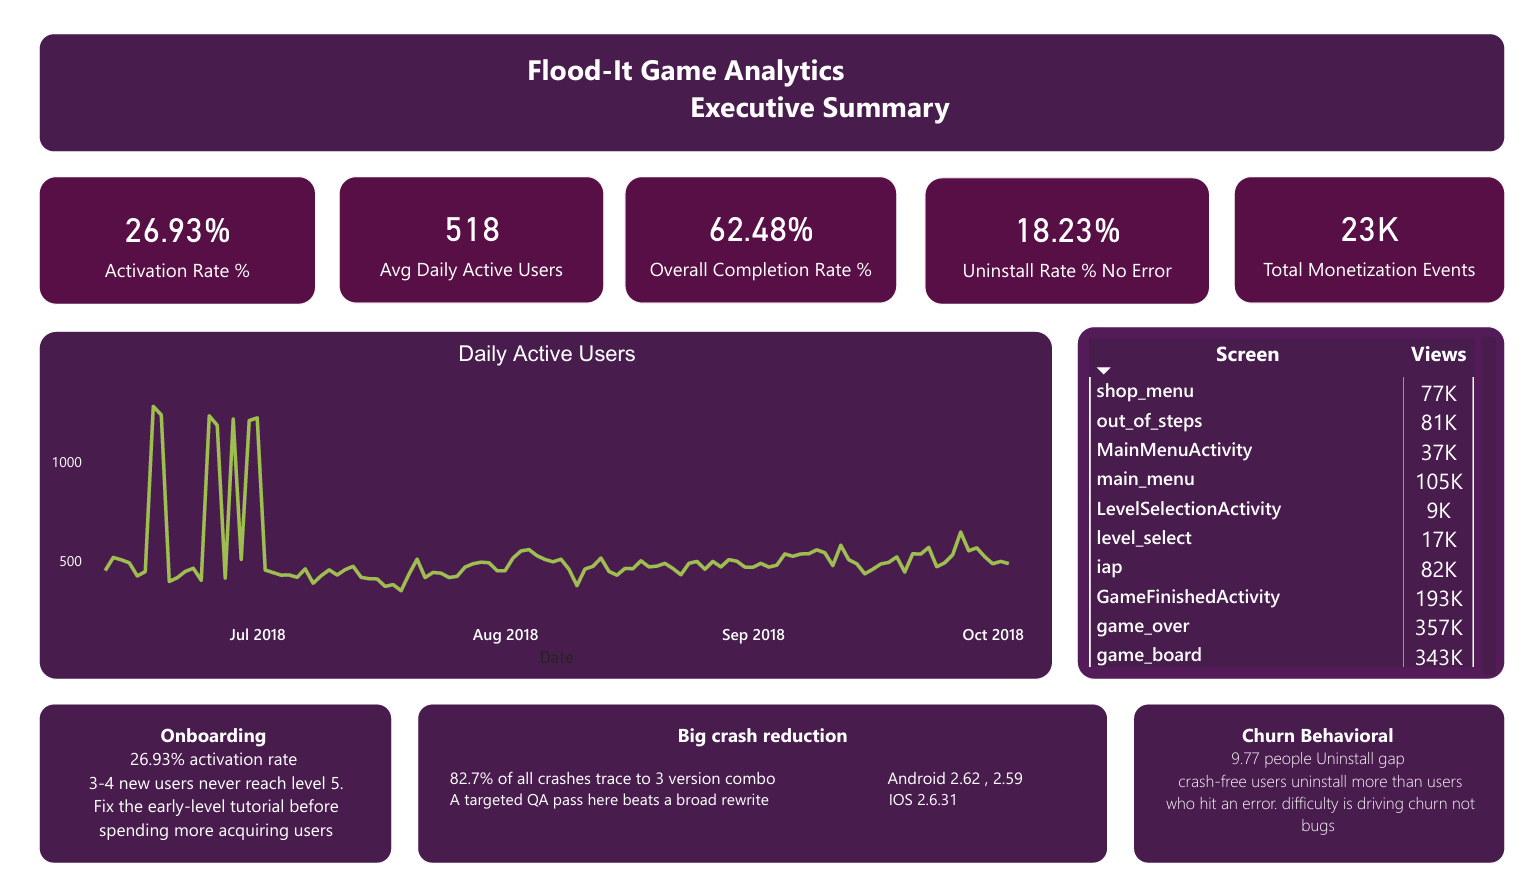

The page's visual inventory and layout, read from the dashboard file:
{"tool":"powerbi","page":{"name":"Executive Summary","canvas":[1280,720],"ordinal":0},"visuals":[{"type":"card","fields":{"Values":["_Measures.Activation Rate %"]},"box":[14,132.6,237.2,110.5],"z":0},{"type":"card","fields":{"Values":["_Measures.Avg Daily Active Users"]},"box":[269.8,132.6,226.7,109.3],"z":1000},{"type":"card","fields":{"Values":["_Measures.Overall Completion Rate %"]},"box":[514,132.6,232.6,109.3],"z":2000},{"type":"card","fields":{"Values":["_Measures.Uninstall Rate % No Error"]},"box":[769.8,133.7,244.2,109.3],"z":3000},{"type":"card","fields":{"Values":["_Measures.Total Monetization Events"]},"box":[1033.7,132.6,232.6,109.3],"z":4000},{"type":"lineChart","title":"Daily Active Users ","fields":{"Category":["DAU.Date"],"Y":["Sum(DAU.DailyActiveUsers)"]},"box":[14,265.1,866.3,297.7],"z":5000},{"type":"shape","box":[13.8,11.2,1252.5,101.2],"z":6000},{"type":"textbox","box":[426.3,20.4,407,84.8],"z":7000},{"type":"pivotTable","fields":{"Rows":["ScreenActivity.Screen"],"Values":["Sum(ScreenActivity.Views)"]},"box":[900,261.2,366.2,301.2],"z":8000},{"type":"shape","box":[14,582.6,302.3,137.2],"z":8002},{"type":"shape","box":[337.2,582.6,589.5,137.2],"z":8003},{"type":"shape","box":[947.7,582.6,318.6,137.2],"z":8004},{"type":"textbox","box":[29.1,594.2,273.3,112.8],"z":8005},{"type":"textbox","box":[360,593.8,543.8,91.2],"z":8006},{"type":"textbox","box":[970,593.8,276.2,112.5],"z":8007},{"type":"shape","box":[1246,270.2,12.4,288.3],"z":8008}]}

Visuals, with their boxes in screenshot pixels (x1, y1, x2, y2), scaled from the page's 1280x720 canvas onto the 1533x878 screenshot:
card - _Measures.Activation Rate %: [17,162,301,296]
card - _Measures.Avg Daily Active Users: [323,162,595,295]
card - _Measures.Overall Completion Rate %: [616,162,894,295]
card - _Measures.Uninstall Rate % No Error: [922,163,1214,296]
card - _Measures.Total Monetization Events: [1238,162,1517,295]
"Daily Active Users " lineChart: [17,323,1054,686]
shape: [17,14,1517,137]
textbox: [511,25,998,128]
pivotTable - ScreenActivity.Screen x Sum(ScreenActivity.Views): [1078,319,1516,686]
shape: [17,710,379,877]
shape: [404,710,1110,877]
shape: [1135,710,1517,877]
textbox: [35,725,362,862]
textbox: [431,724,1082,835]
textbox: [1162,724,1493,861]
shape: [1492,329,1507,681]
